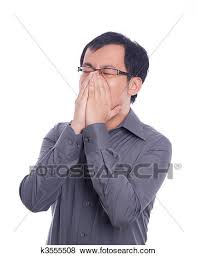asian_male: (76, 40, 133, 117)
